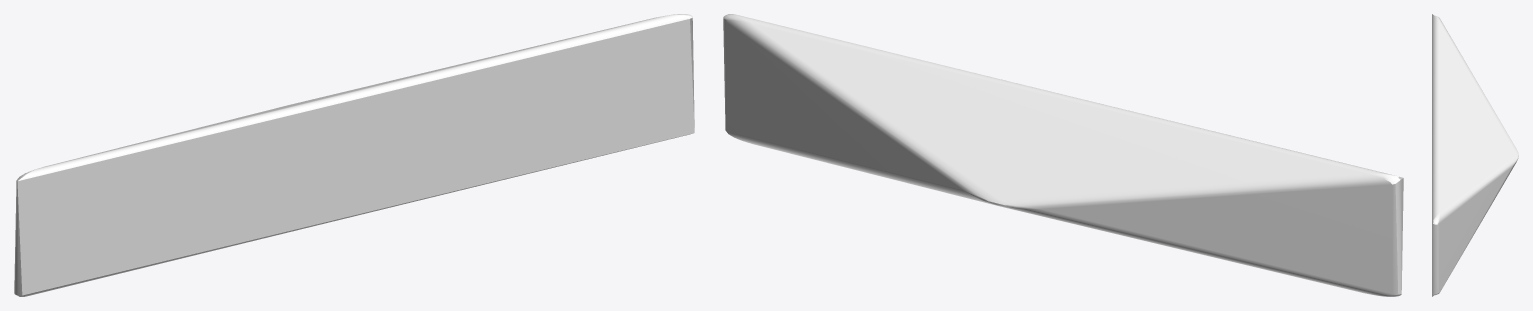
Rendered from SM_space.fbx.
The picture shows the model from 3 angles, left to right: view 1: azimuth 30°, elevation 25°; view 2: azimuth 150°, elevation 25°; view 3: azimuth 270°, elevation 25°; orthographic projection. The views are drawn at different scales.
Visible parts, largest first — view 1: pCube93; view 2: pCube93; view 3: pCube93.
Part boxes in pixels (bbox=[...]): pCube93: bbox=[14, 14, 694, 296]; pCube93: bbox=[723, 14, 1403, 296]; pCube93: bbox=[1432, 14, 1518, 296].
Size of the model in its own units: 6.05 by 1.05 by 1.06.
1 material, 1 textured.
